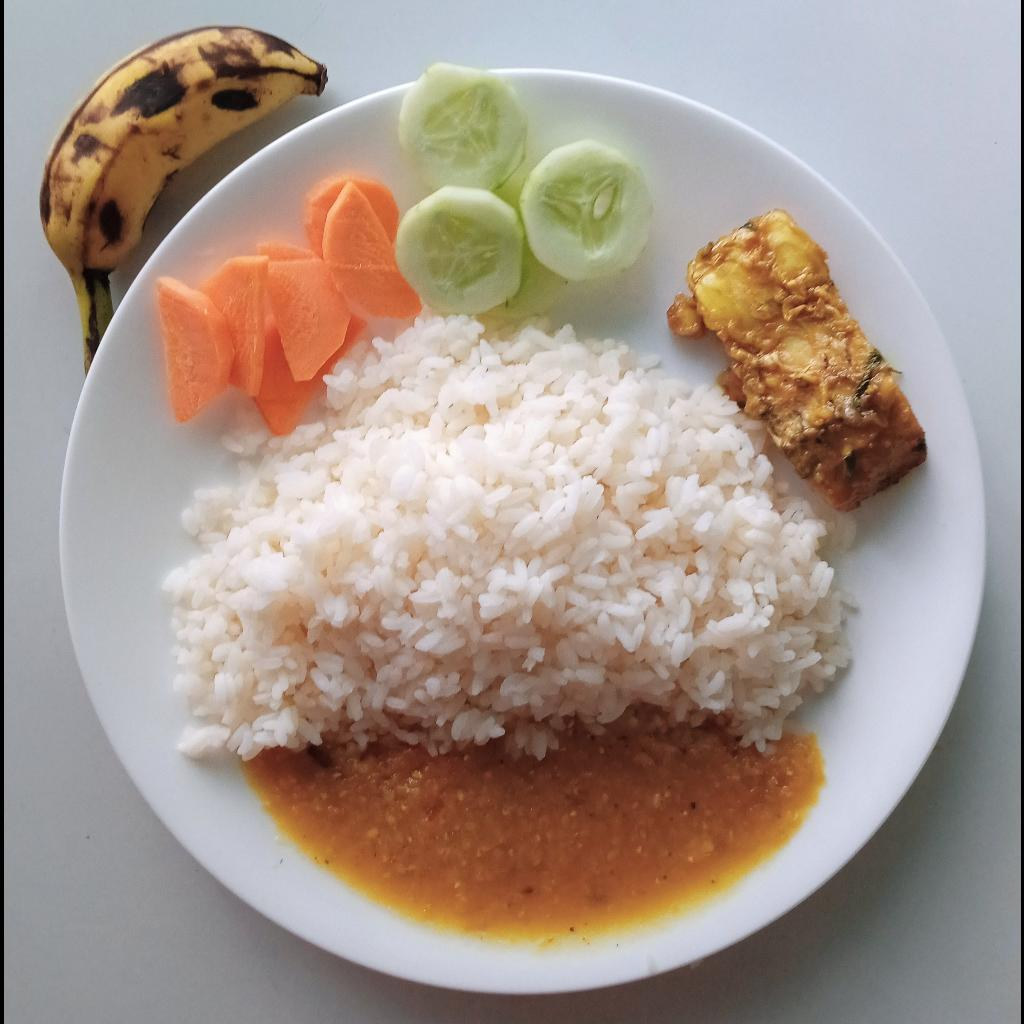banana: (39, 25, 329, 364)
carrot: (155, 173, 417, 434)
cucumber: (395, 66, 650, 319)
daal: (239, 724, 824, 944)
fish: (666, 208, 927, 512)
rice: (159, 314, 863, 764)
